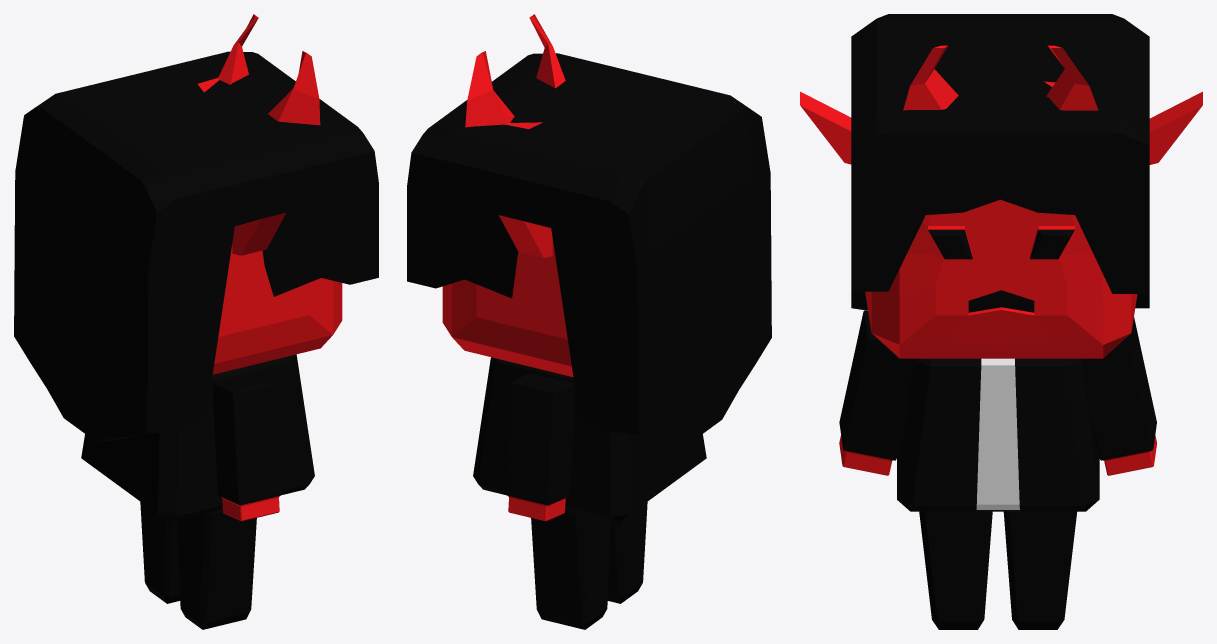
The model's file is DevilModel_4.fbx.
3 renders of one model, left to right at view 1: azimuth 30°, elevation 25°; view 2: azimuth 150°, elevation 25°; view 3: azimuth 270°, elevation 25°, orthographic. The views are drawn at different scales.
Visible parts, largest first — view 1: Cube.002, Head, Torso, LegLeft, Cube.001; view 2: Cube.002, Head, Torso, LegLeft, Cube.001; view 3: Cube.002, Head, Torso, Cube.001, LegLeft.
Part boxes in pixels (x1,y1,x2,y2): Cube.002: (14,51,378,442); Head: (197,14,342,374); Torso: (81,354,314,522); LegLeft: (140,502,256,629); Cube.001: (212,373,282,521); Cube.002: (407,53,771,443); Head: (442,14,573,376); Torso: (473,357,706,522); LegLeft: (531,502,647,629); Cube.001: (505,373,575,521); Cube.002: (851,14,1149,310); Head: (800,45,1202,358); Torso: (897,358,1099,511); Cube.001: (839,310,1156,475); LegLeft: (919,511,1076,629).
Bounding box in the file's own units: 203 × 456 × 270.
